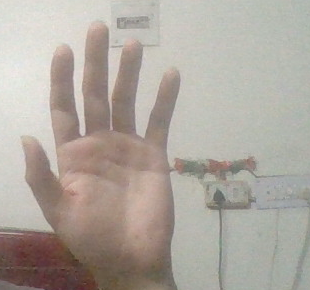move: (20, 18, 187, 290)
